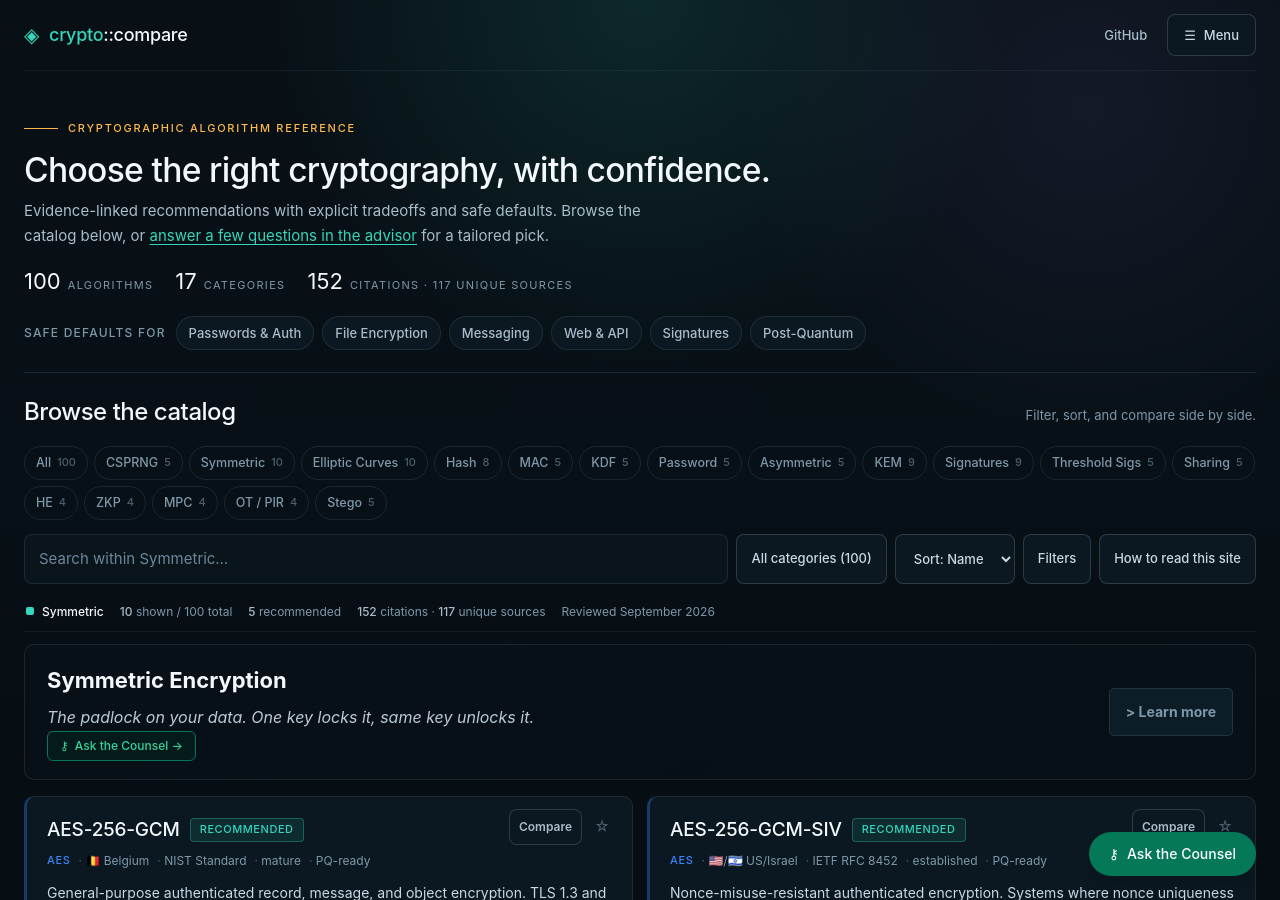
Test case: Compare Mode State Transitions › selecting 2 algorithms shows compare button
This screenshot has width=1280, height=900.
# Select first two algorithms
Click the 1st button "Compare" at (546, 827), box [509,809,582,845]
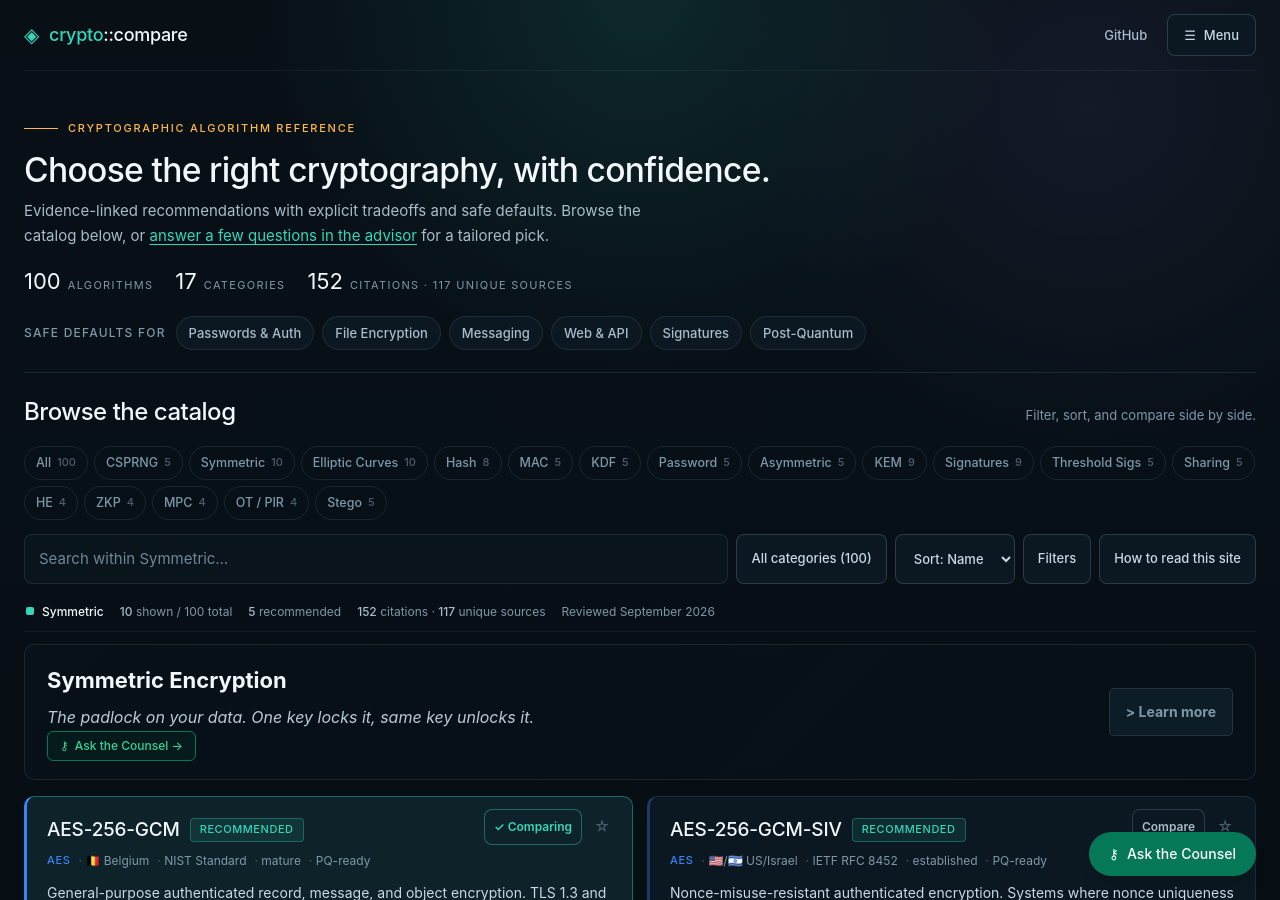
Click the button "Compare" at (1168, 827), box [1132,809,1205,845]
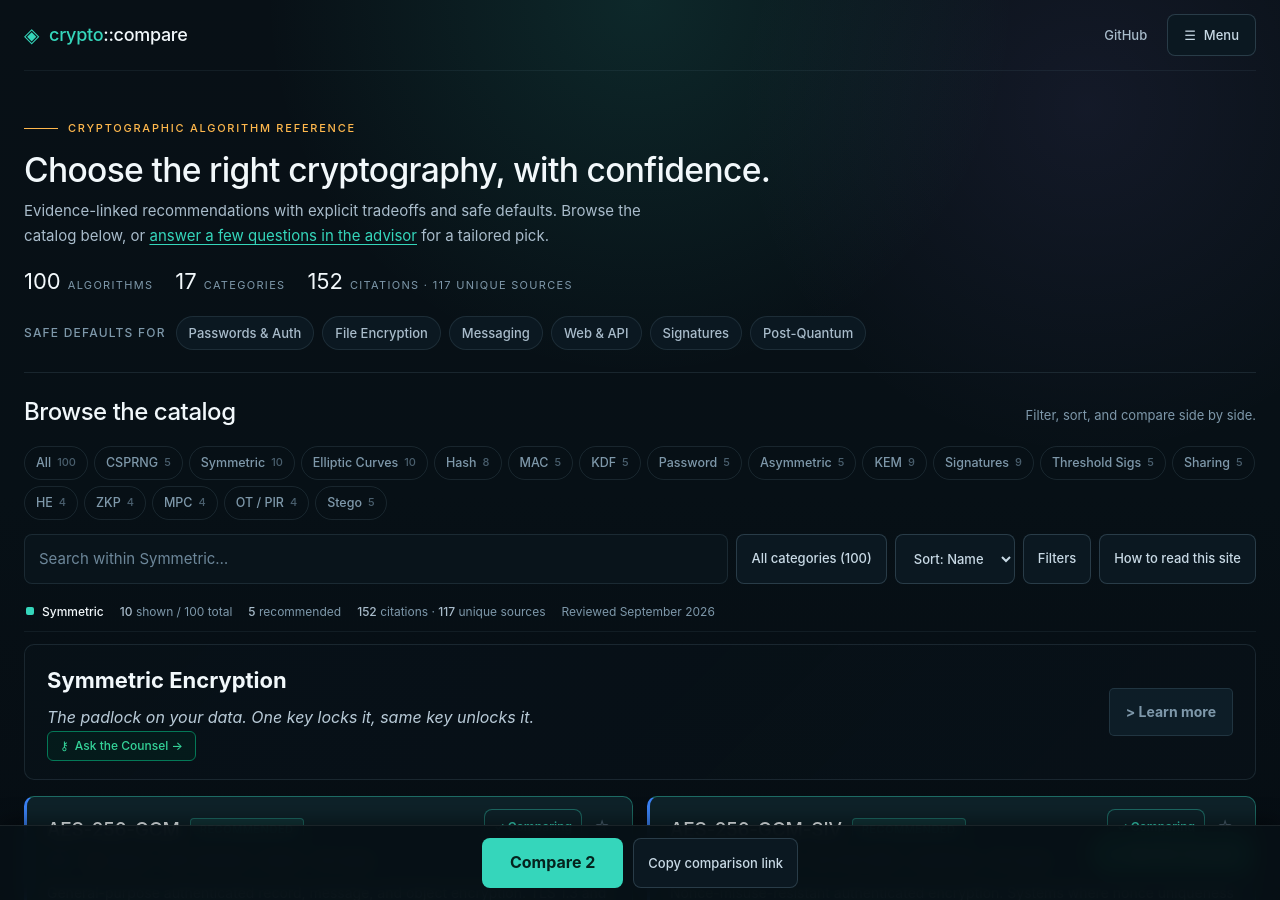
Result: the button "Compare 2" is shown at [482,838,623,888]
